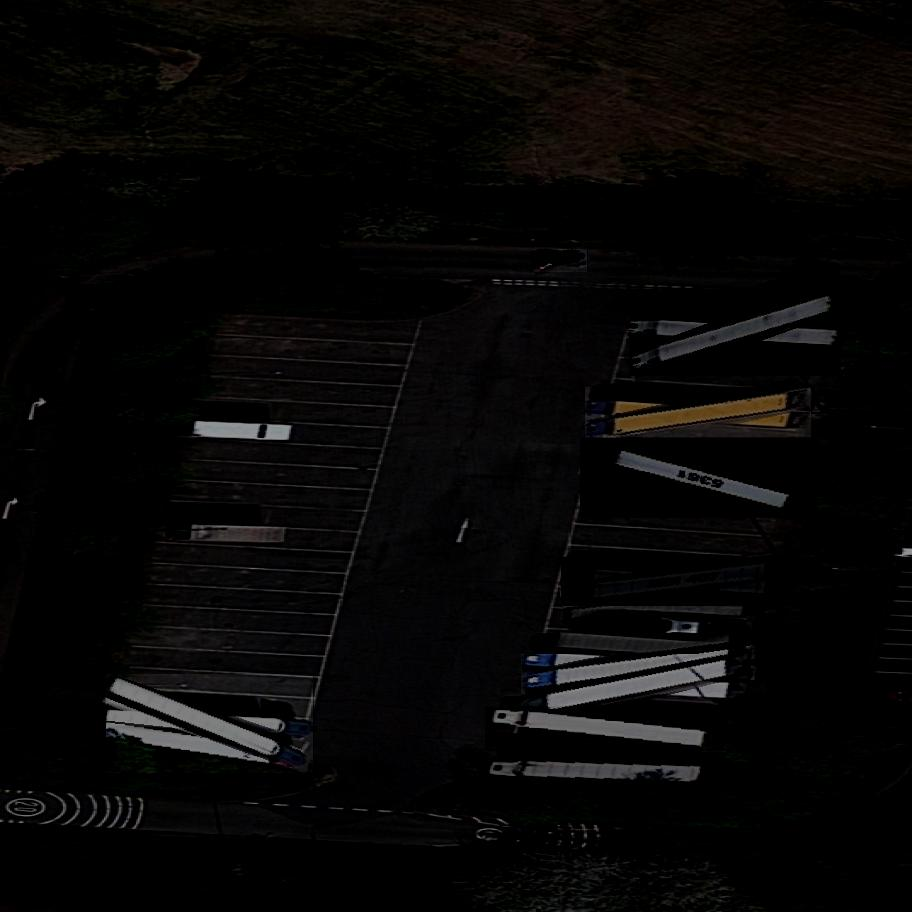large-vehicle: (107, 673, 316, 774), (580, 437, 818, 520), (624, 289, 847, 376), (519, 655, 751, 721), (520, 638, 765, 696), (583, 388, 814, 445), (92, 719, 311, 773), (559, 558, 793, 608), (486, 706, 724, 752), (483, 759, 725, 786)
small-vehicle: (65, 277, 139, 326), (532, 249, 589, 272)
